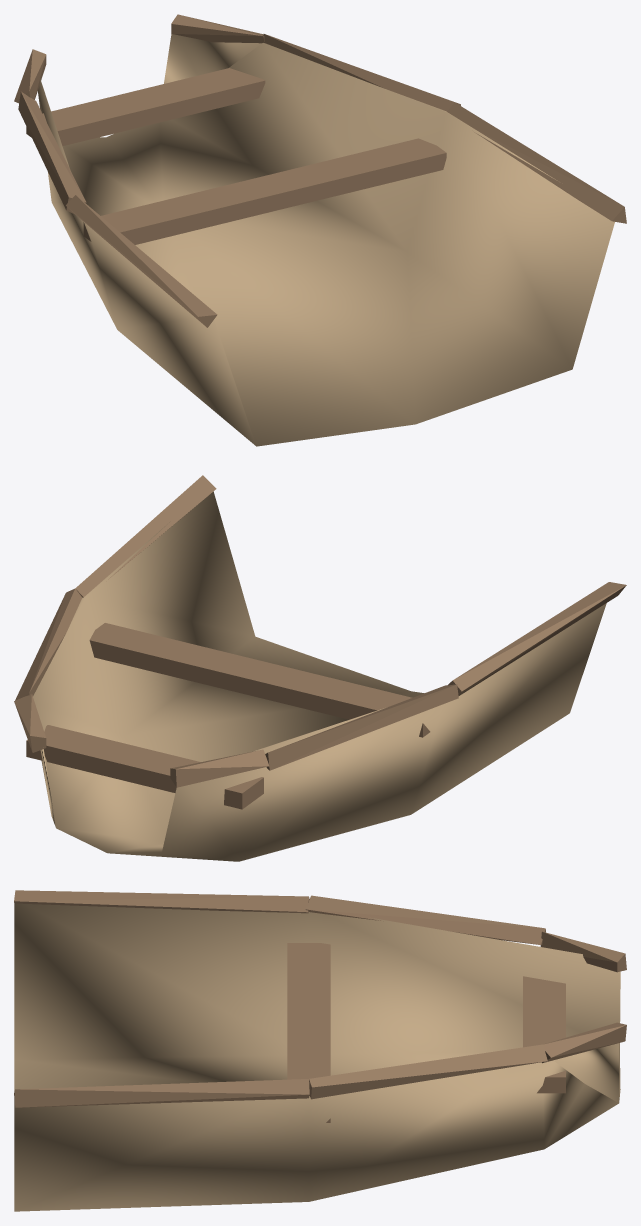
File: boats.wreck_stern.lod1.glb
3 renders of one model, top to bottom at view 1: azimuth 30°, elevation 25°; view 2: azimuth 150°, elevation 25°; view 3: azimuth 270°, elevation 25°, orthographic.
Visible parts, largest first — view 1: Hull, Seat, Seat.001, Gunwale.001, Gunwale, Gunwale.002, Gunwale.003, Gunwale.005, Gunwale.004; view 2: Hull, Seat, Seat.001, Gunwale.002, Gunwale, Gunwale.001, Gunwale.003, Gunwale.004, Gunwale.005; view 3: Hull, Seat, Gunwale.001, Gunwale, Gunwale.003, Gunwale.002, Seat.001, Gunwale.005, Gunwale.004.
Part boxes in pixels (x1=…): Hull: x1=38, y1=34, x2=614, y2=446; Seat: x1=83, y1=138, x2=446, y2=244; Seat.001: x1=26, y1=68, x2=265, y2=146; Gunwale.001: x1=447, y1=102, x2=626, y2=223; Gunwale: x1=66, y1=195, x2=217, y2=327; Gunwale.002: x1=18, y1=91, x2=86, y2=214; Gunwale.003: x1=263, y1=34, x2=460, y2=111; Gunwale.005: x1=171, y1=14, x2=264, y2=43; Gunwale.004: x1=14, y1=49, x2=46, y2=103; Hull: x1=33, y1=491, x2=606, y2=861; Seat: x1=89, y1=623, x2=430, y2=737; Seat.001: x1=26, y1=725, x2=263, y2=809; Gunwale.002: x1=265, y1=684, x2=458, y2=770; Gunwale: x1=447, y1=582, x2=626, y2=695; Gunwale.001: x1=75, y1=475, x2=216, y2=597; Gunwale.003: x1=15, y1=588, x2=82, y2=700; Gunwale.004: x1=170, y1=749, x2=269, y2=787; Gunwale.005: x1=14, y1=693, x2=46, y2=752; Hull: x1=14, y1=903, x2=620, y2=1211; Seat: x1=287, y1=943, x2=330, y2=1122; Gunwale.001: x1=14, y1=1079, x2=309, y2=1107; Gunwale: x1=14, y1=890, x2=309, y2=913; Gunwale.003: x1=309, y1=1044, x2=547, y2=1099; Gunwale.002: x1=305, y1=895, x2=545, y2=944; Seat.001: x1=523, y1=976, x2=565, y2=1093; Gunwale.005: x1=542, y1=1022, x2=626, y2=1063; Gunwale.004: x1=540, y1=931, x2=626, y2=972.
Size of the model in its own units: 2.49 by 0.9247 by 3.12.
